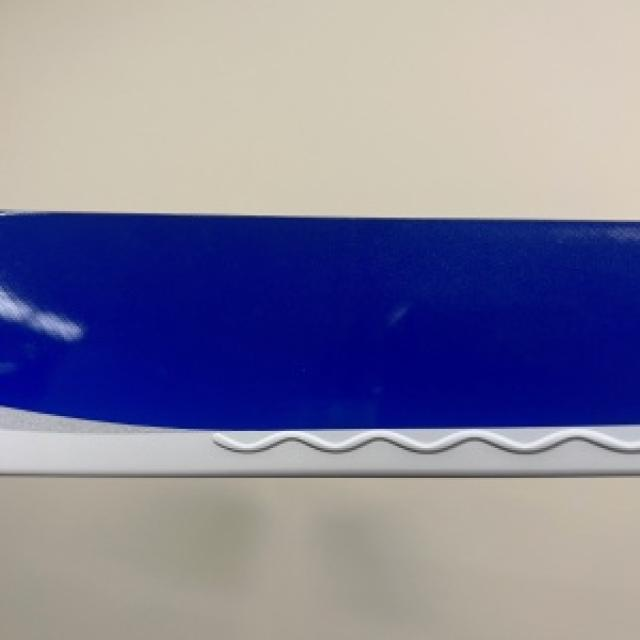healthy: (0, 211, 638, 474)
